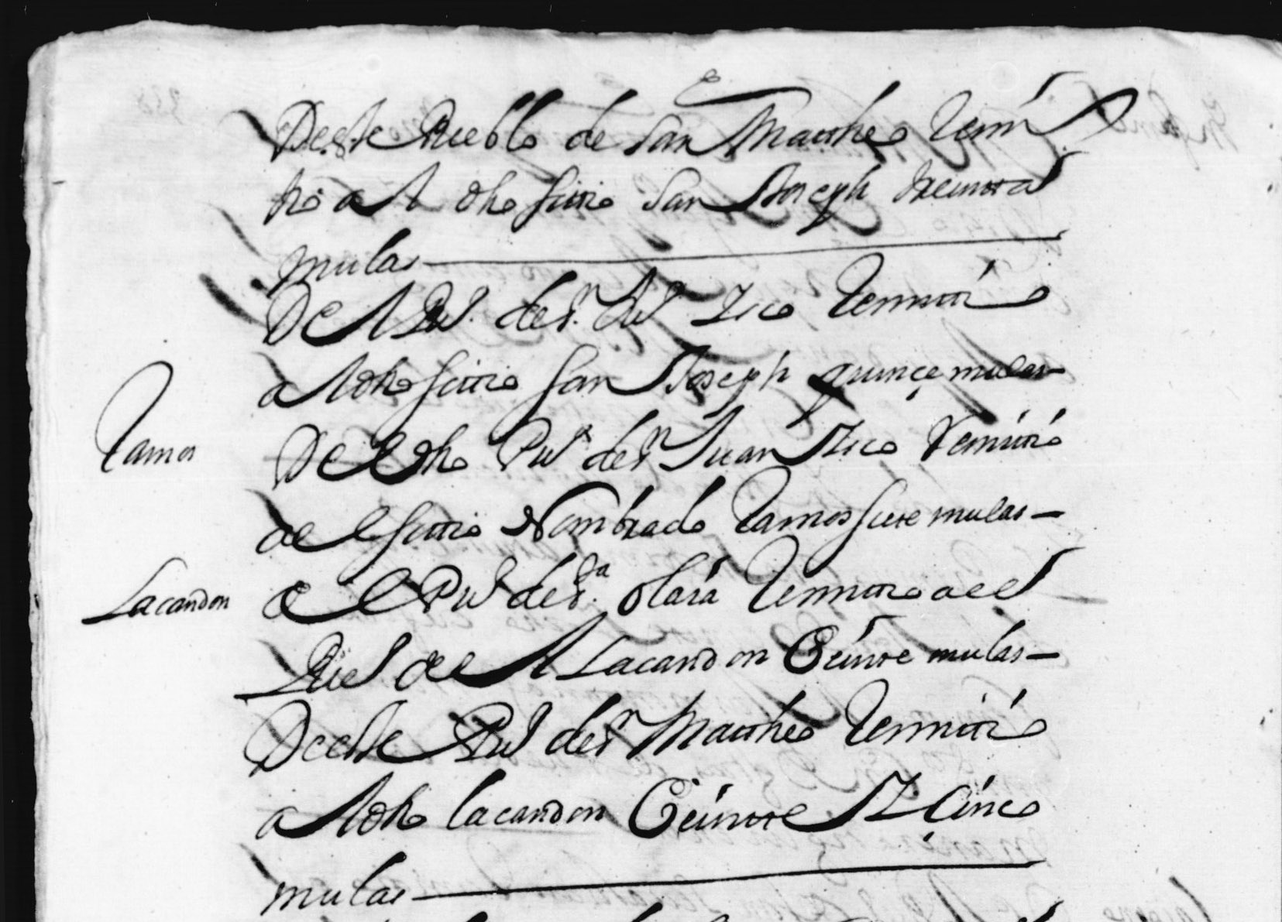lacandon: (445, 768, 605, 830), (81, 557, 229, 624), (555, 634, 769, 680)
